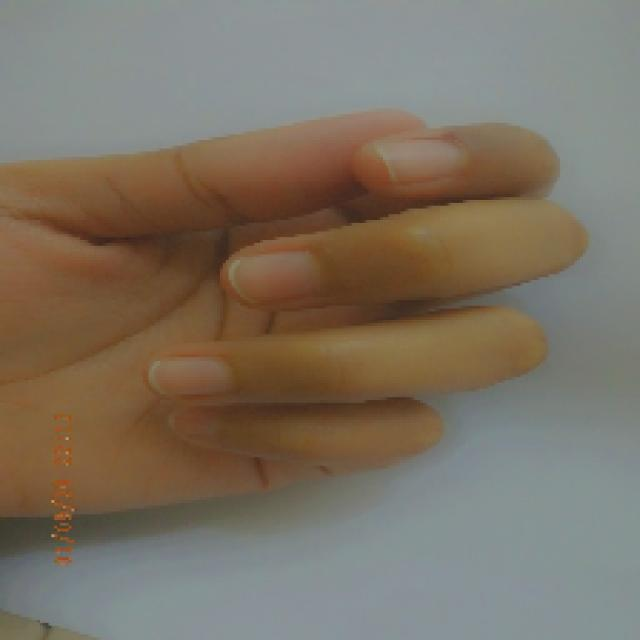Nail: (226, 251, 321, 304), (374, 140, 462, 184), (148, 356, 231, 396), (170, 409, 219, 436)
